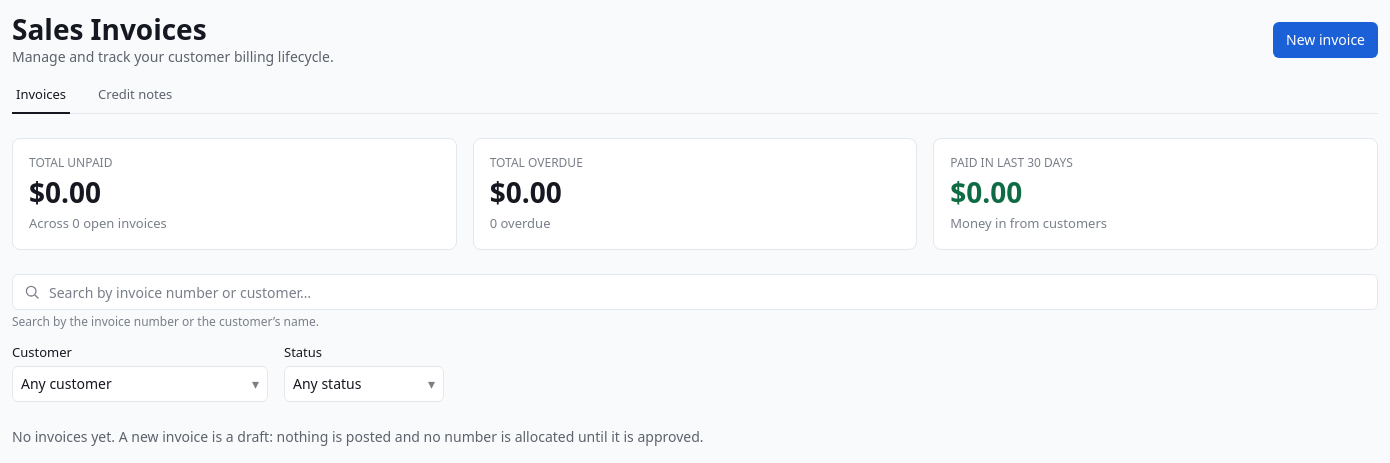
Scenario: SalesScreen › lists credit notes as their own series, not as negative invoices
Click the tab "Credit notes": click(135, 99) [94,84,176,114]
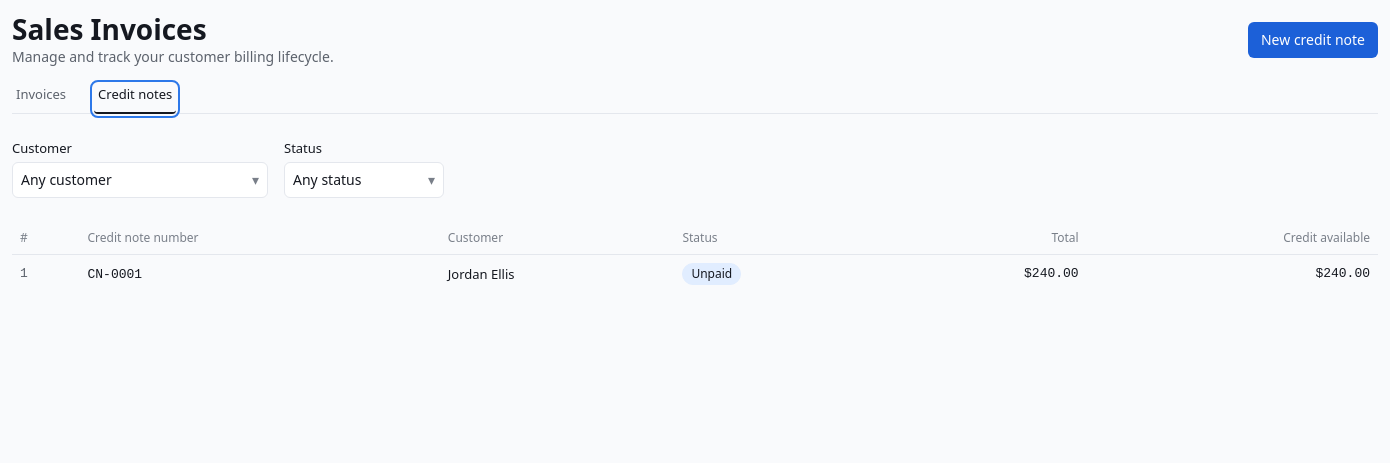
Result: the button "CN-0001" is shown at [88,265,142,285]
Result: the column heading "Credit available" is shown at [1087,222,1378,254]
Result: the text "$240.00" is shown 2 times at [886,254,1087,293]; [1087,254,1378,293]
